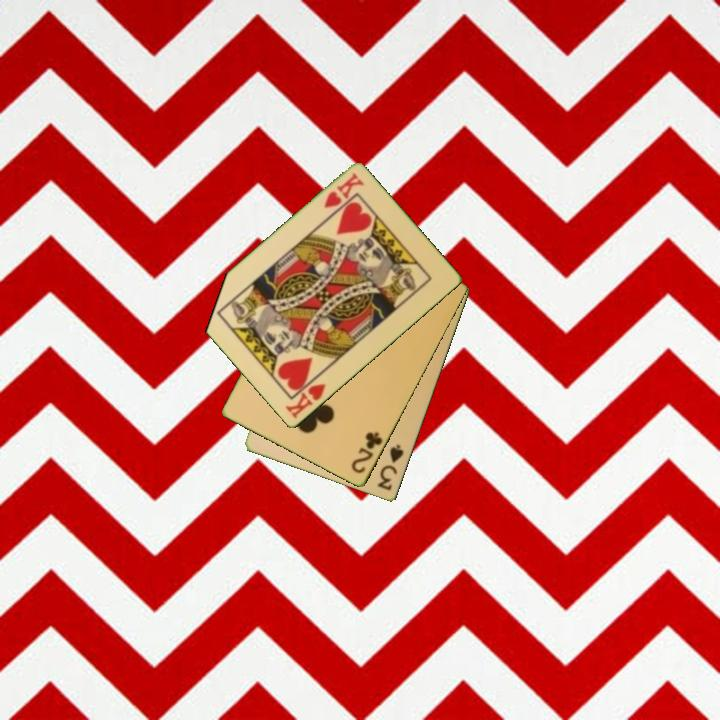2c: (348, 429, 386, 477)
3s: (374, 441, 407, 494)
Kh: (282, 371, 329, 422), (320, 170, 367, 211)
